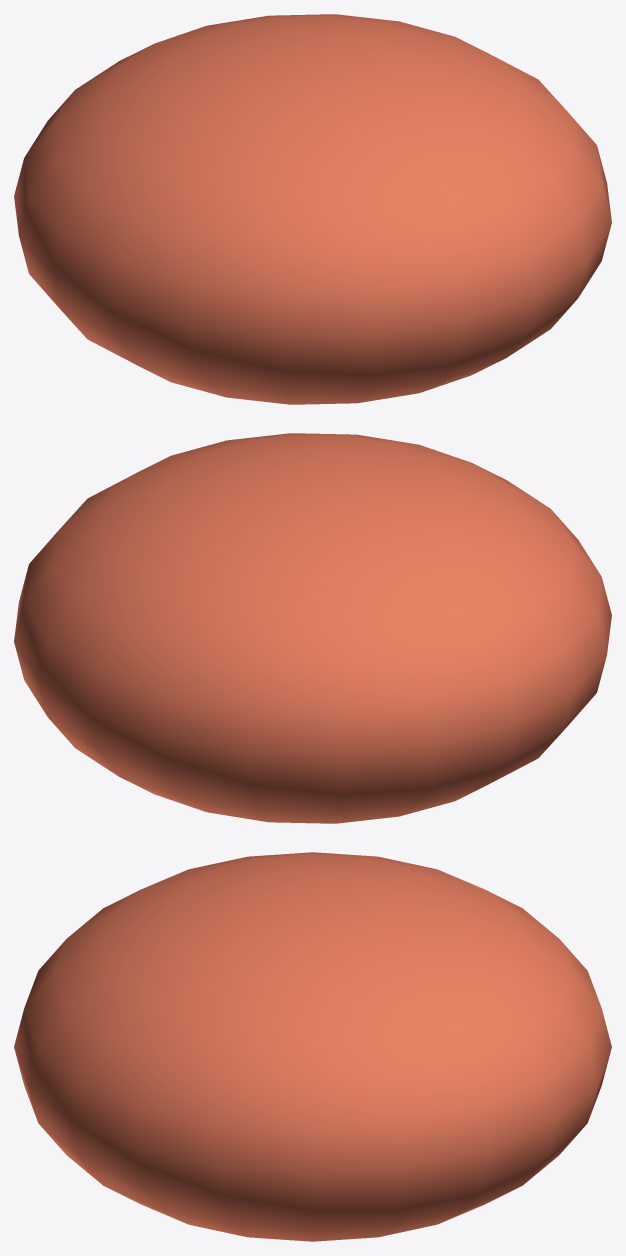
The model's file is Kids_Bean_Bag_2.glb.
3 renders of one model, top to bottom at view 1: azimuth 30°, elevation 25°; view 2: azimuth 150°, elevation 25°; view 3: azimuth 270°, elevation 25°, orthographic.
Parts seen in each view (by area): view 1: Kids_Bean_Bag_2_Coral; view 2: Kids_Bean_Bag_2_Coral; view 3: Kids_Bean_Bag_2_Coral.
Part boxes in pixels (bbox=[...]): Kids_Bean_Bag_2_Coral: bbox=[14, 14, 611, 404]; Kids_Bean_Bag_2_Coral: bbox=[14, 433, 611, 823]; Kids_Bean_Bag_2_Coral: bbox=[14, 852, 611, 1241].
Size of the model in its own units: 0.84 by 0.462 by 0.84.
